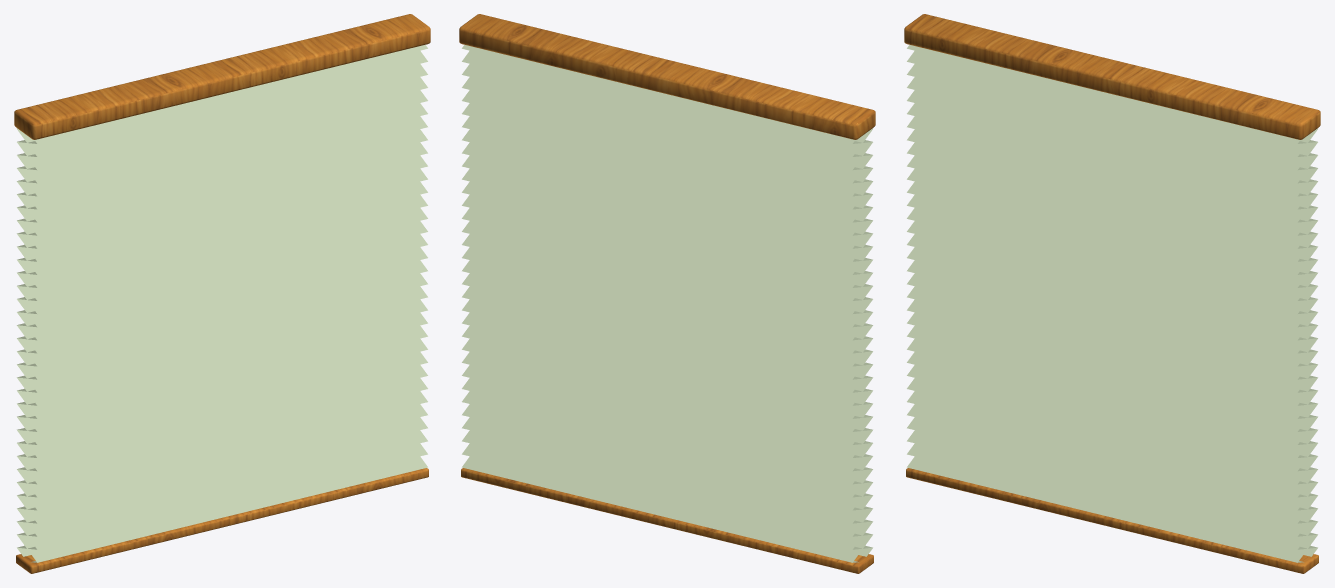
The model's file is shade-cellular.glb.
The picture shows the model from 3 angles, left to right: view 1: azimuth 30°, elevation 25°; view 2: azimuth 150°, elevation 25°; view 3: azimuth 330°, elevation 25°; orthographic projection.
Parts seen in each view (by area): view 1: shade-cellular; view 2: shade-cellular; view 3: shade-cellular.
Boxes of the visible parts, x1,y1,x2,y2 form: shade-cellular: (14,14,430,573); shade-cellular: (459,14,875,573); shade-cellular: (904,14,1320,573).
Size of the model in its own units: 1.2 by 1.3 by 0.11.
Materials: 2 (1 with a texture image).
